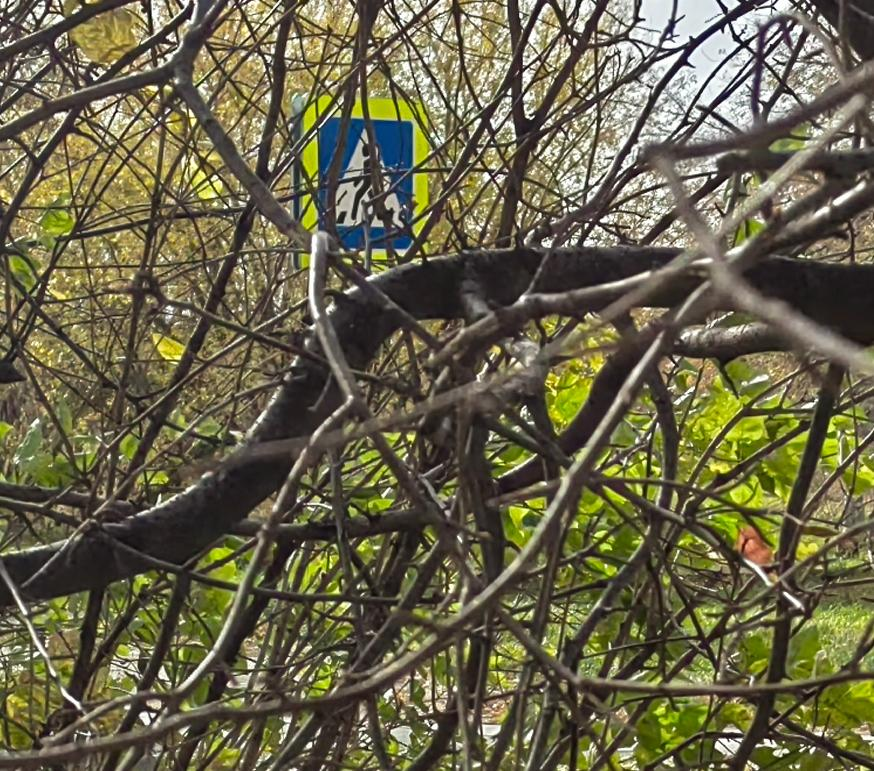obstructed_road_sign: (299, 95, 428, 268)
